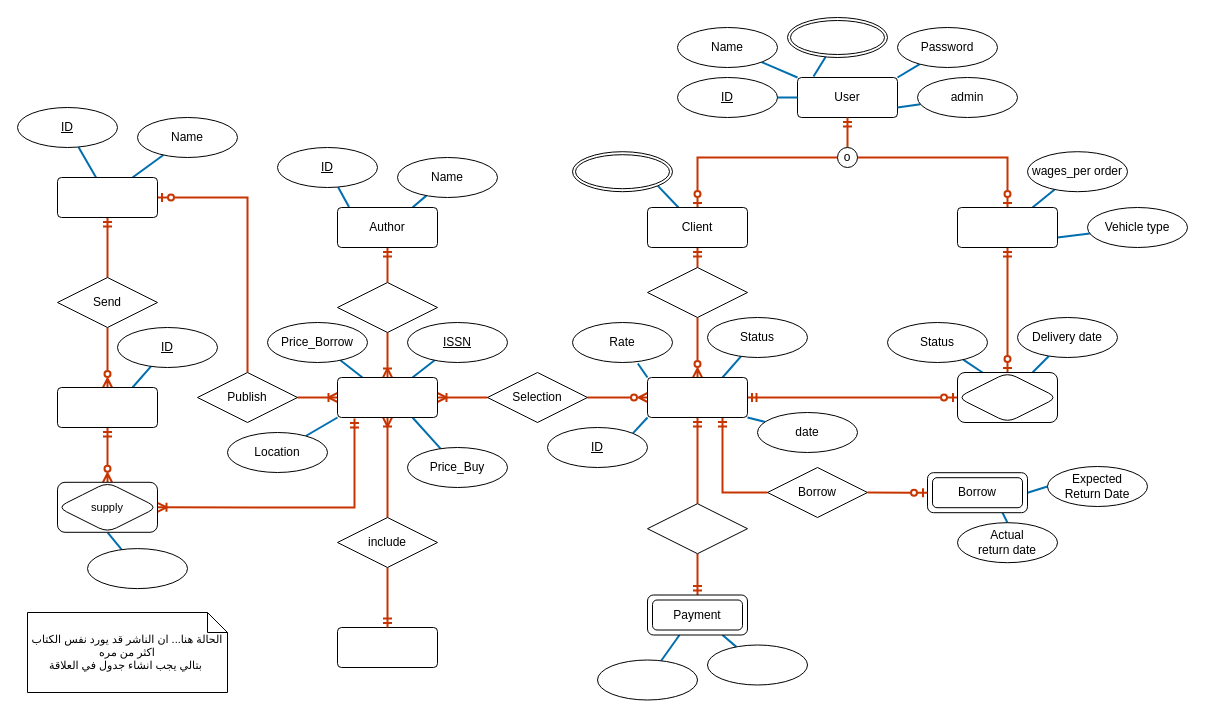
Some shapes in this 1205 by 718 pixel diagram are drawn without their labels. The shapes that lost their labels are listed below. From the top down, each one's box as (x1, y1, x2, y2) in pixels, then its label:
(786, 16, 888, 58): Phone
(572, 151, 672, 192): Address
(56, 176, 158, 218): Publisher
(956, 206, 1058, 248): Shipping Officer
(336, 282, 438, 332): Write
(646, 266, 748, 318): Relationship
(56, 386, 158, 428): Bills
(336, 376, 438, 418): Books
(646, 376, 748, 418): Order
(956, 372, 1058, 422): Shipping
(646, 503, 748, 554): Pay
(86, 548, 188, 589): count
(336, 626, 438, 668): Categroy
(706, 644, 808, 685): Type
(596, 659, 698, 700): Total
